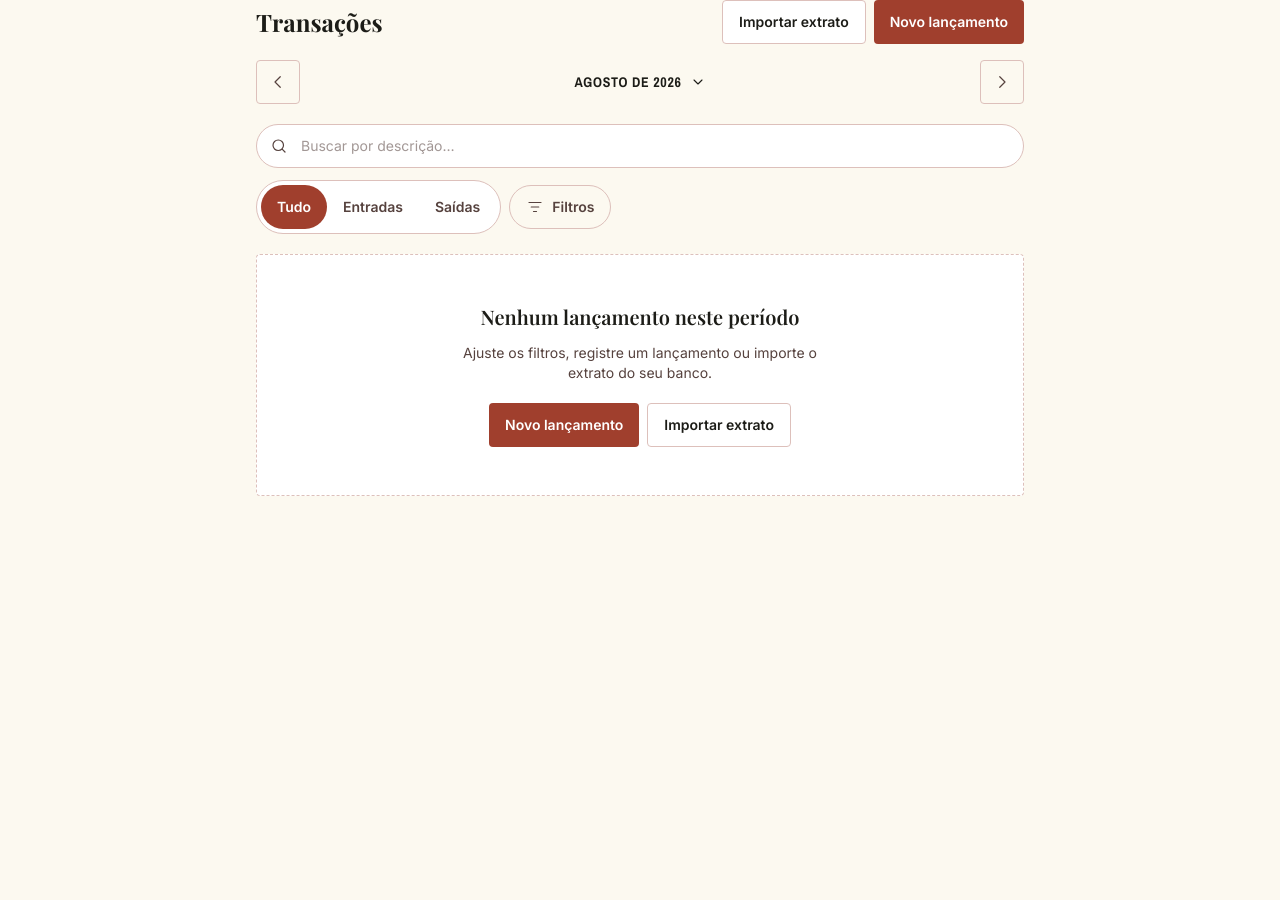
Test case: validação do formulário (FR-003) › rejeita valor zero
Expected: the heading "Transações" is shown, [256, 6, 383, 38]
Click the button "Novo lançamento" in the row of "Transações" at [949, 22], box [874, 0, 1024, 44]
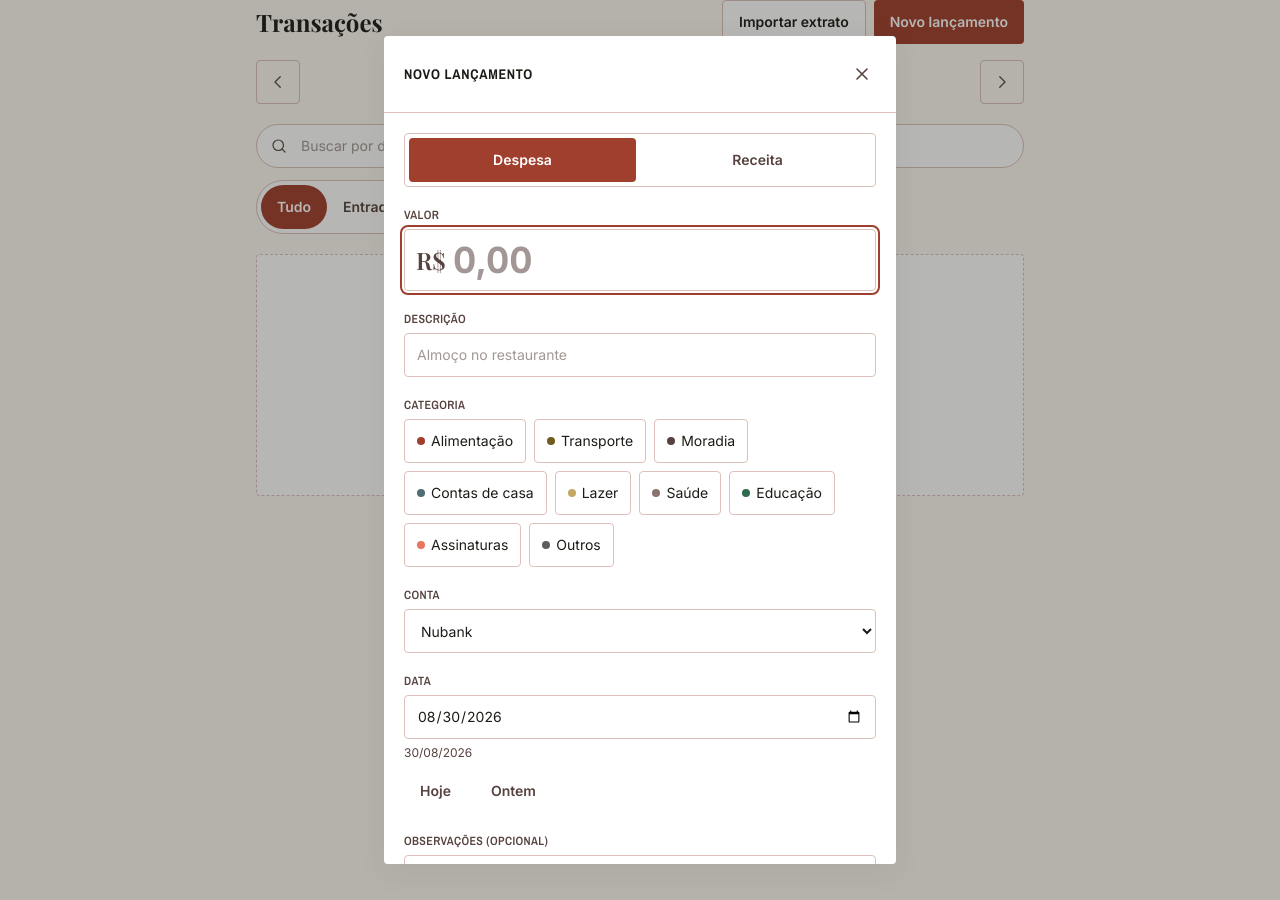
Type "0" into the field labelled "Valor" at [640, 260], box [404, 229, 876, 291]
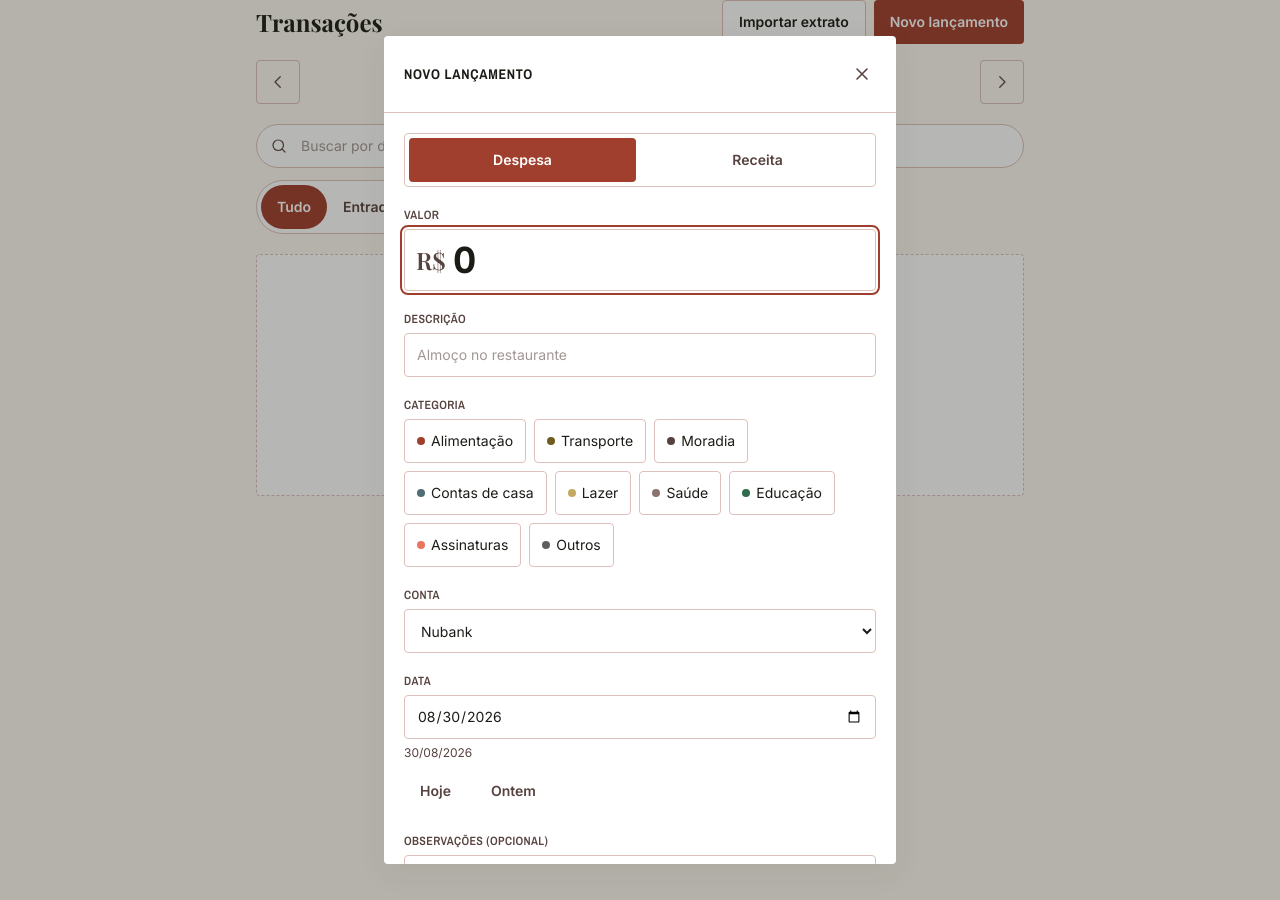
Type "Teste" into the field labelled "Descrição" at [640, 355], box [404, 333, 876, 377]
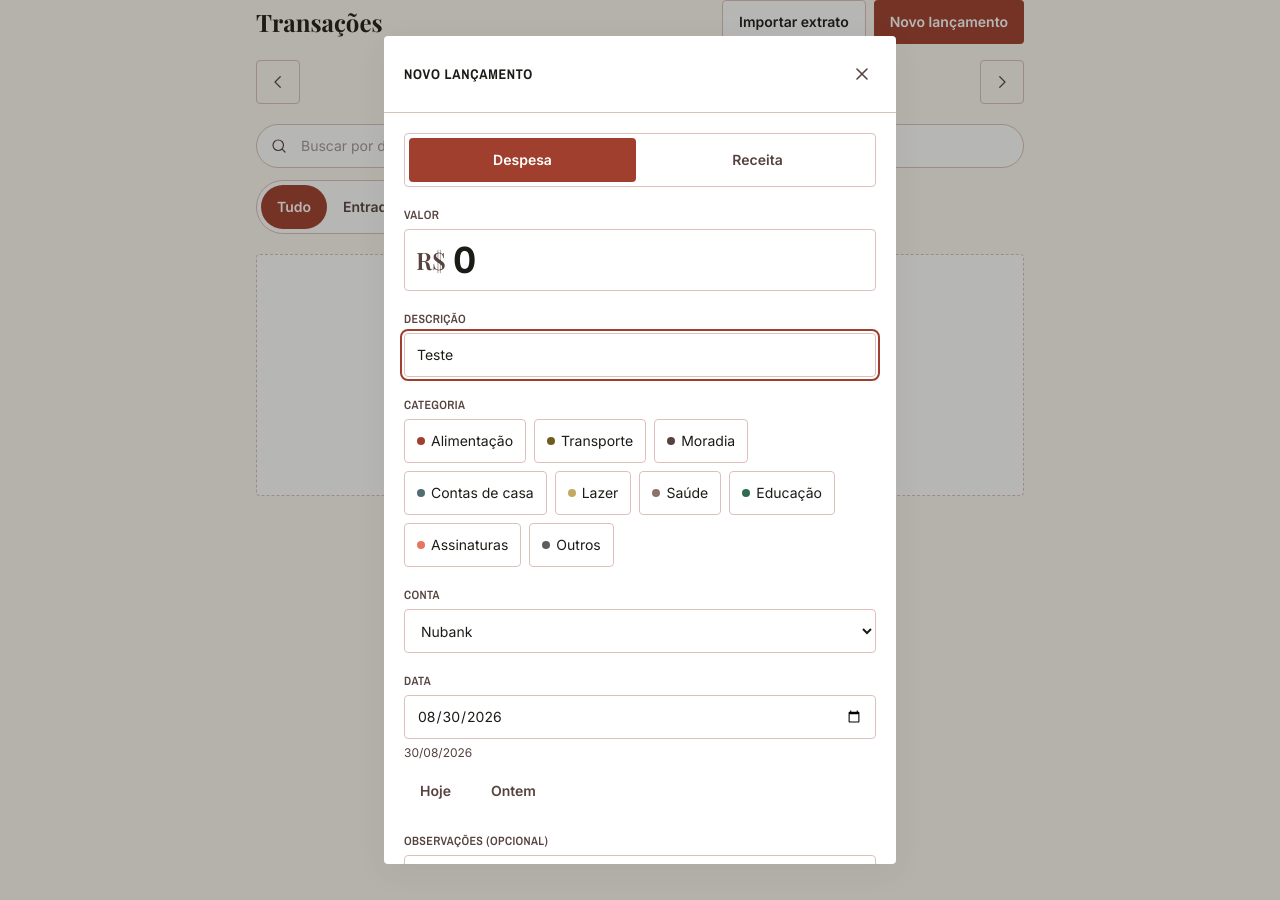
Click the button "Alimentação" at [465, 441], box [404, 419, 526, 463]
(page scrolled)
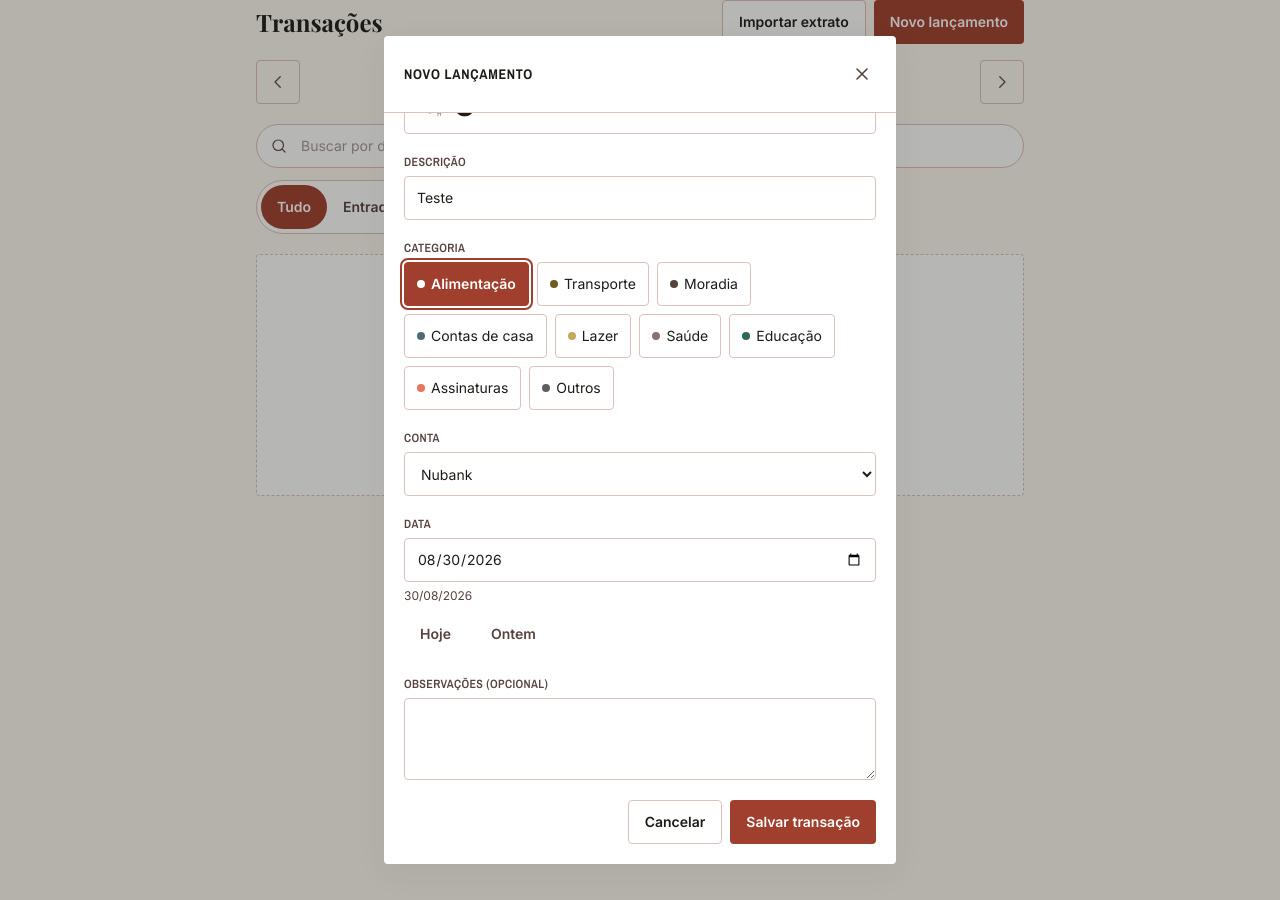
Click the button "Salvar transação" at [803, 822], box [730, 800, 876, 844]
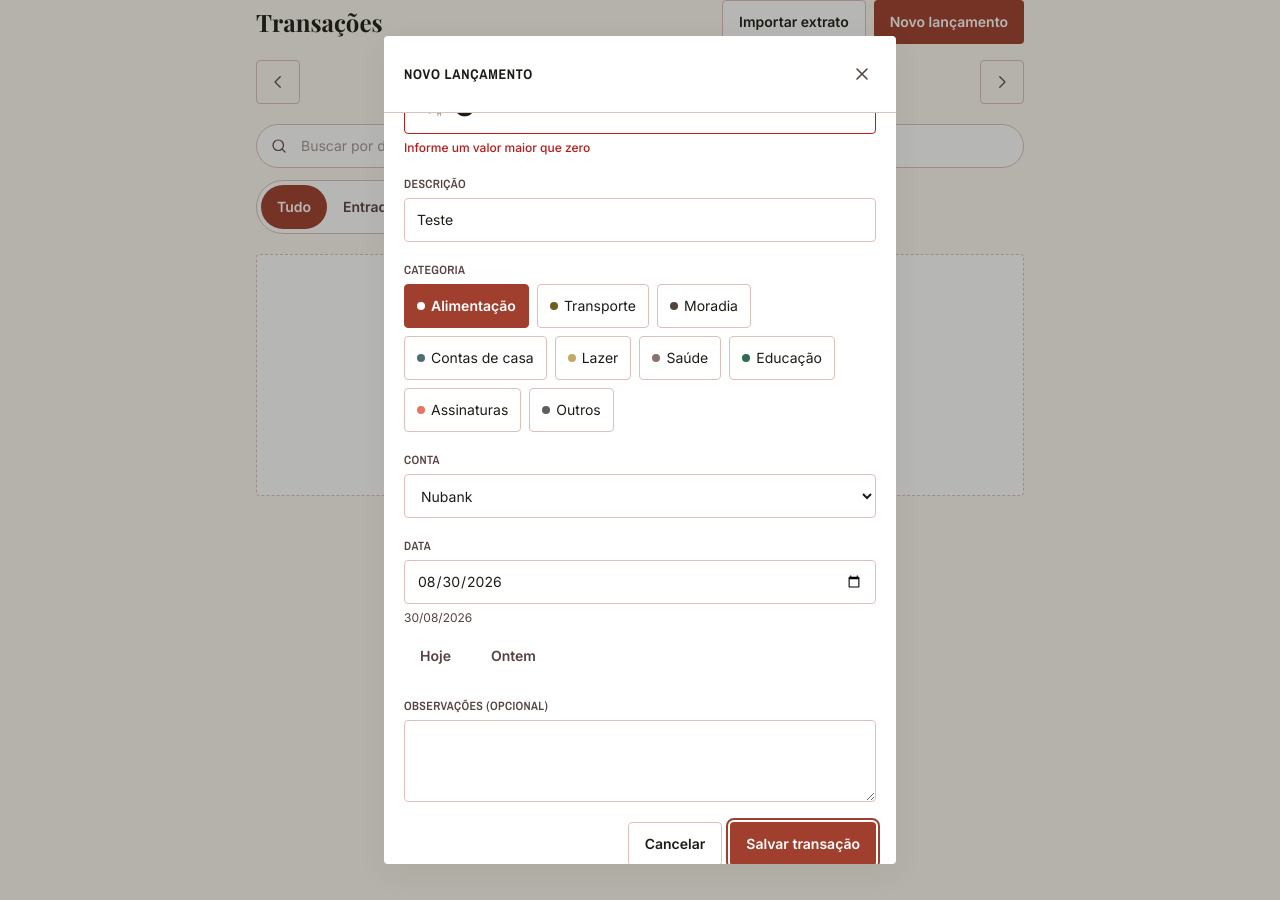
Expected: the text "Informe um valor maior que zero" is shown, [404, 140, 590, 155]
